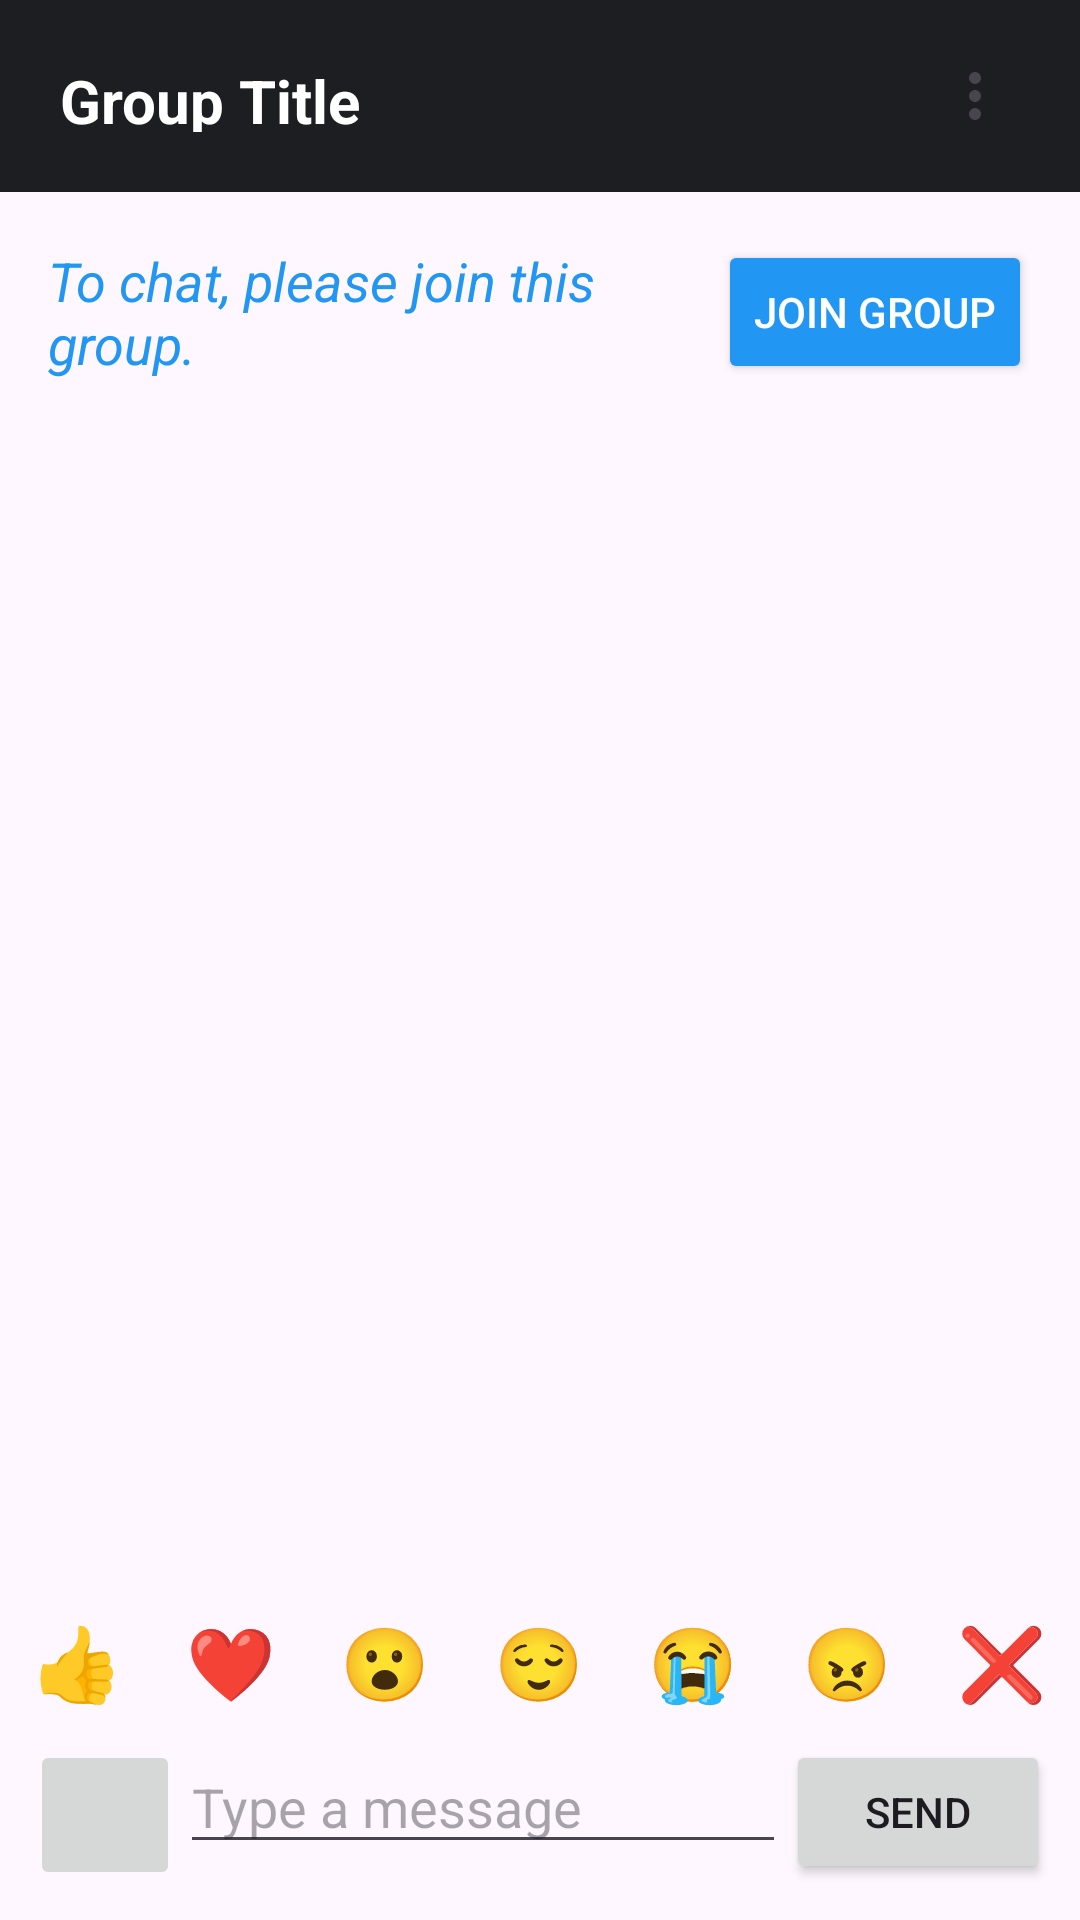

Icons on this 1080w x 1920h Android screen, each with its box as (x1, y1, x2, y2):
three dots: (969, 72, 981, 120)
